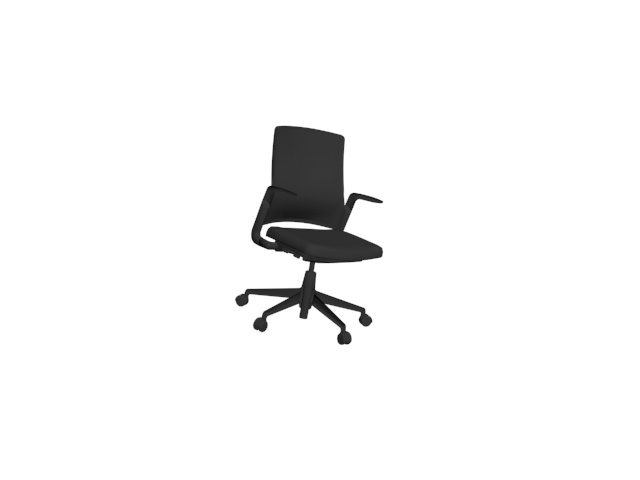desk_chair: (233, 121, 384, 352)
